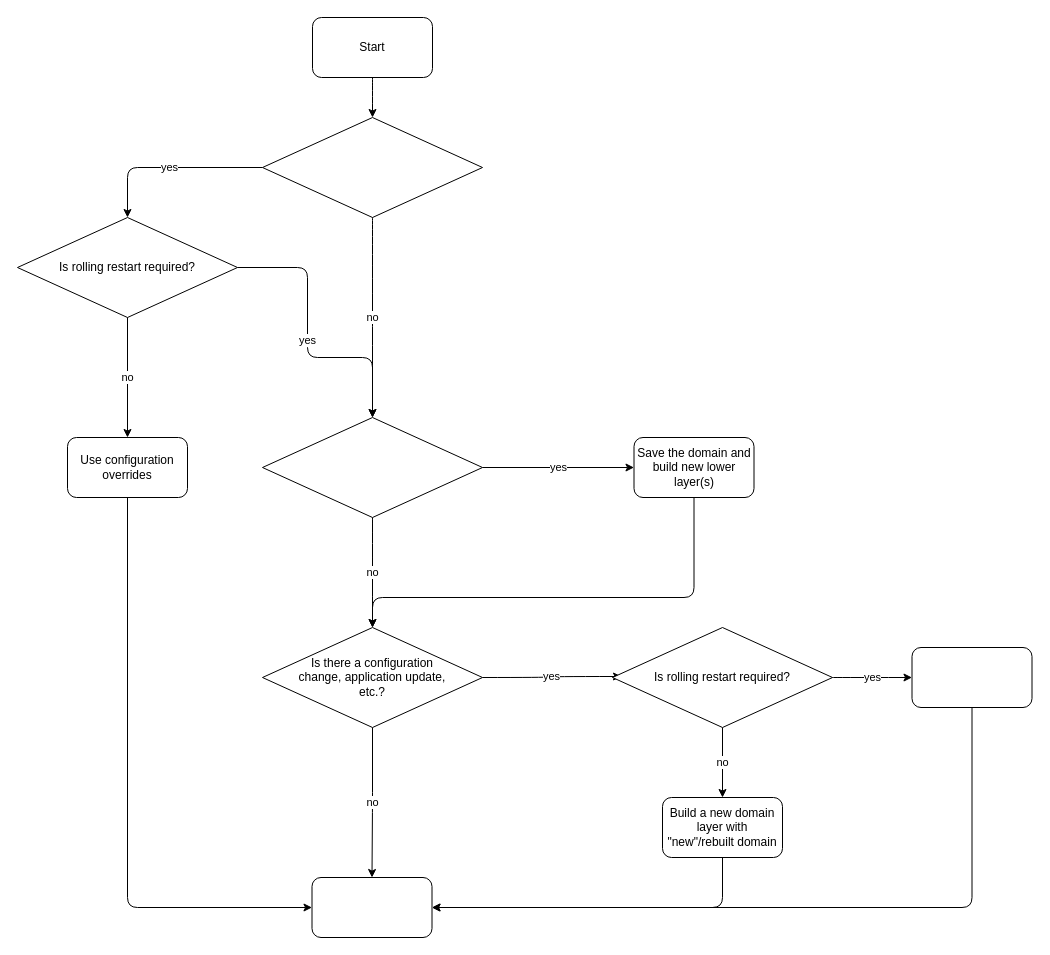
Some shapes in this 1050 by 955 pixel diagram are drawn without their labels. The box of each missing label's shape, as (x1, y1, x2, y2) in pixels:
Build (or rebuild) domain layer with "saved" domain: (911, 646, 1032, 708)
Can the change be made with a configuration override?: (262, 116, 482, 218)
Do you need to apply WebLogic, JDK or OS patches?: (262, 416, 482, 518)
Done: (311, 876, 432, 938)
